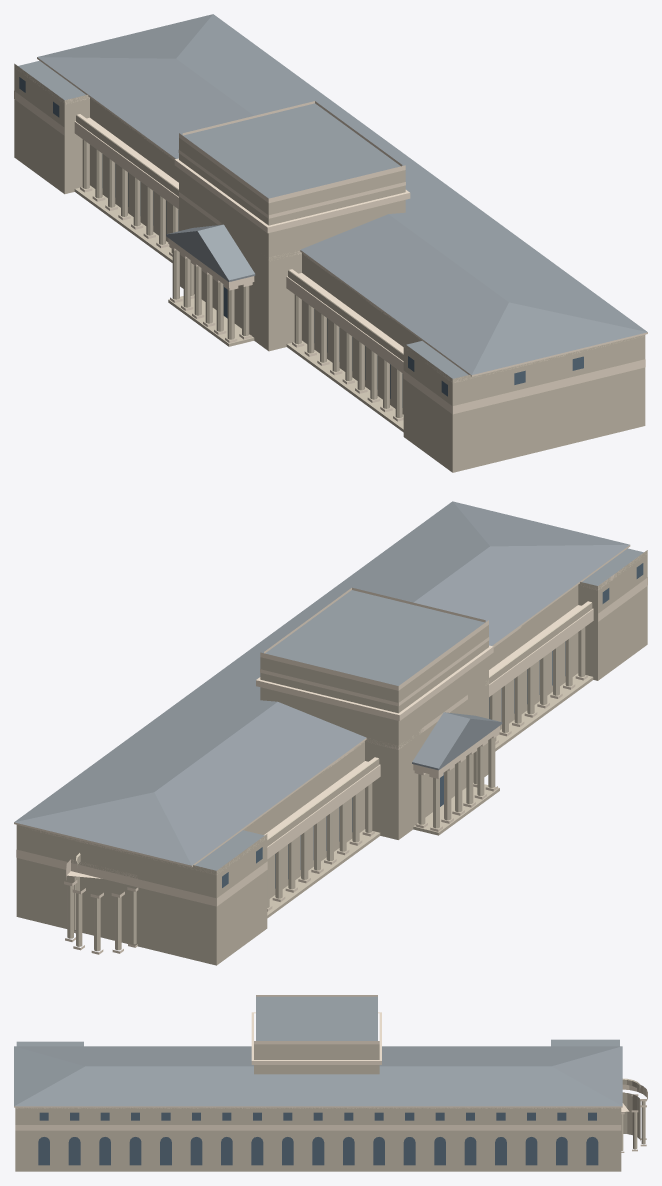
The model's file is niagara-toronto-power-station.glb.
3 renders of one model, top to bottom at view 1: azimuth 30°, elevation 25°; view 2: azimuth 150°, elevation 25°; view 3: azimuth 270°, elevation 25°, orthographic. The views are drawn at different scales.
Visible parts, largest first — view 1: Toronto Power Generating Station; view 2: Toronto Power Generating Station; view 3: Toronto Power Generating Station.
Part boxes in pixels (x1,y1,x2,y2): Toronto Power Generating Station: [14, 14, 647, 472]; Toronto Power Generating Station: [14, 501, 647, 965]; Toronto Power Generating Station: [14, 995, 647, 1171].
Bounding box in the file's own units: 41.71 × 26 × 140.
